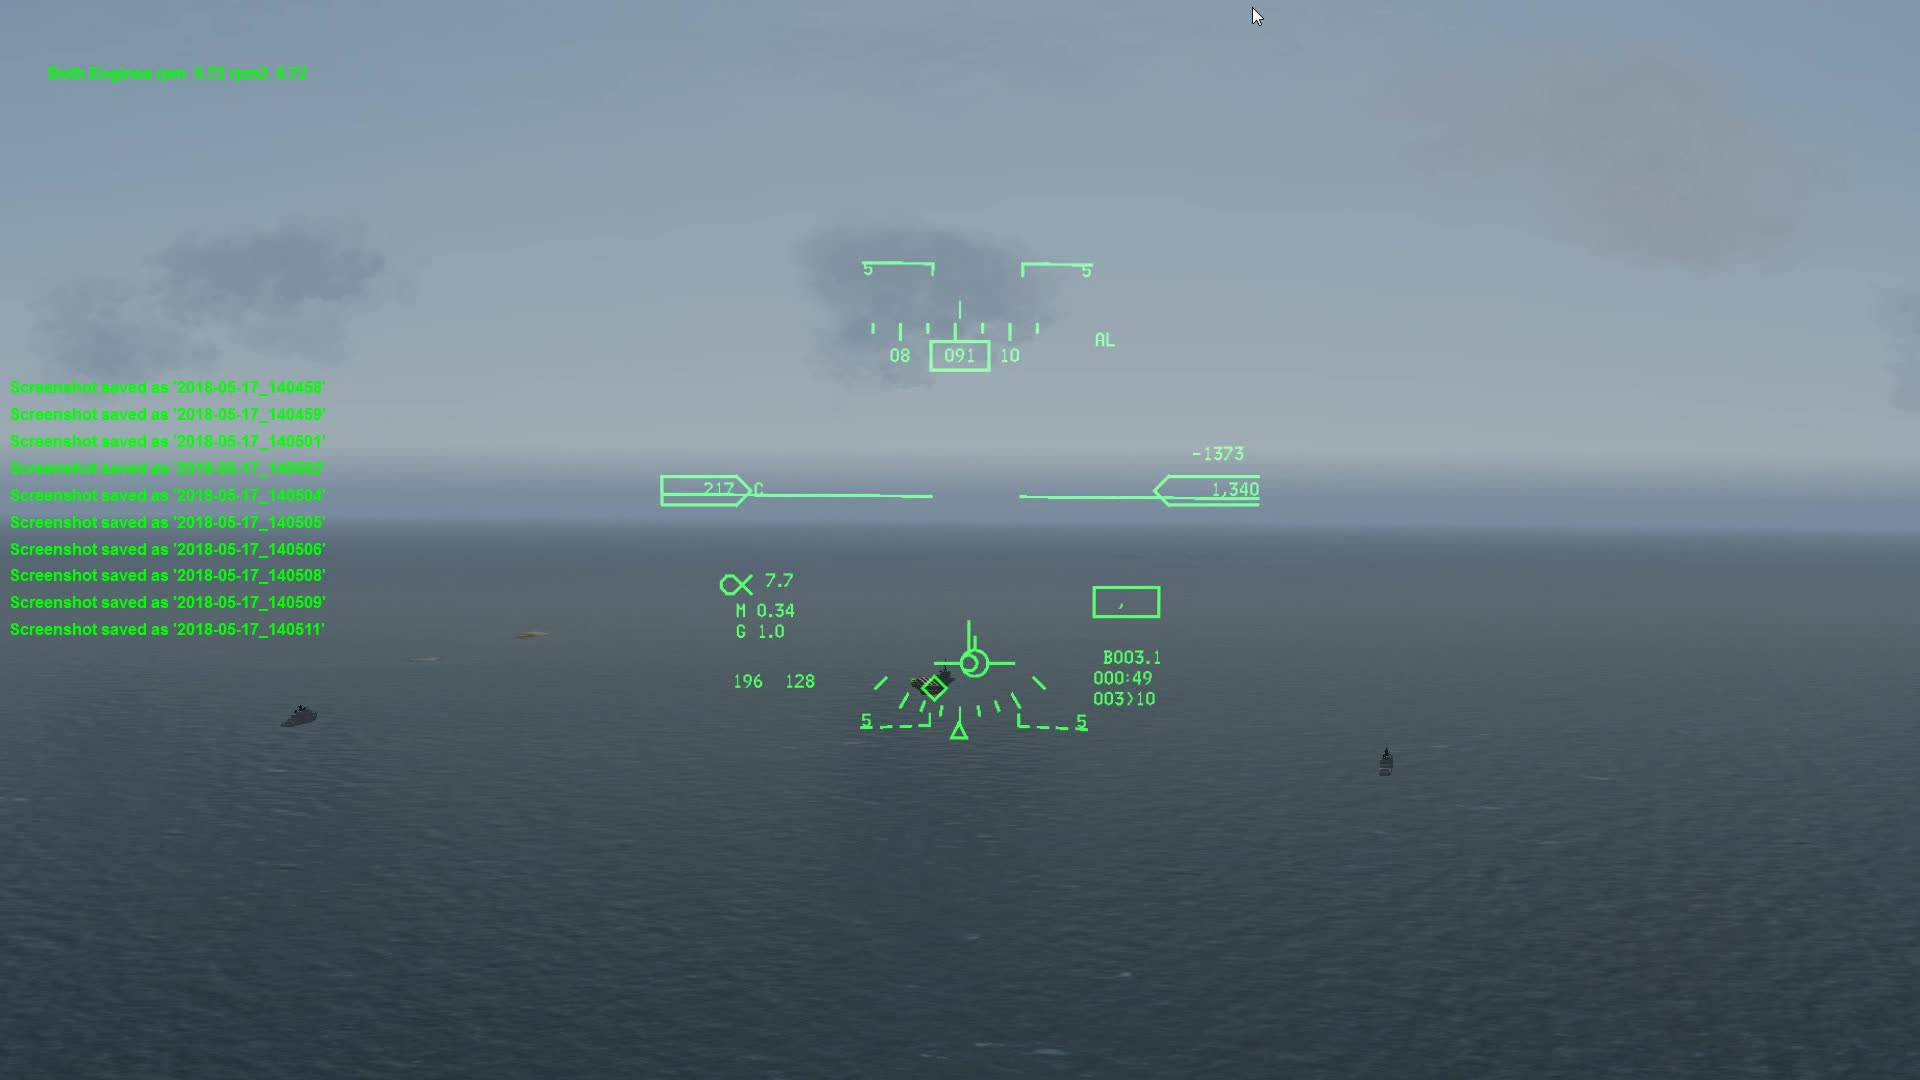speed vector: (938, 615, 1025, 680)
